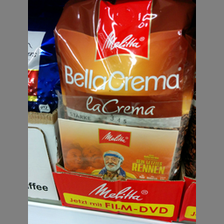coffee: (54, 1, 193, 179)
